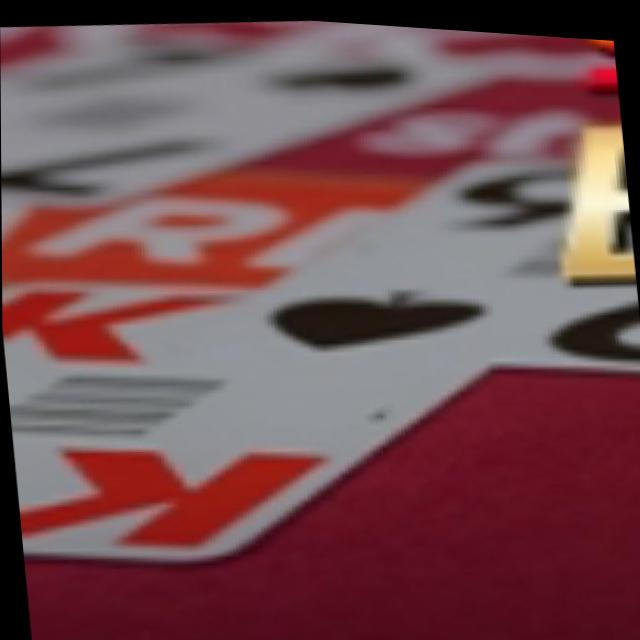Card-7: (0, 37, 504, 207)
Card-9: (220, 151, 640, 362)
Card-K: (2, 284, 482, 556)
